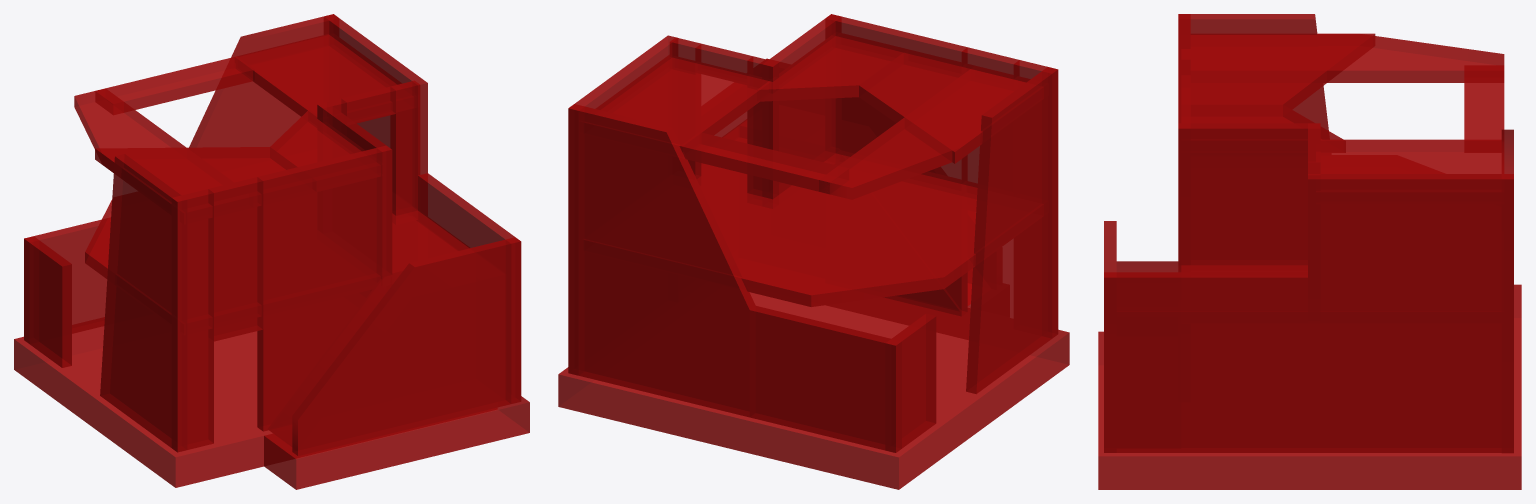
File: SM_Bld_Village_House_06_Destroyed_Collision.fbx
3 views of the same model, side by side, from view 1: azimuth 30°, elevation 25°; view 2: azimuth 150°, elevation 25°; view 3: azimuth 270°, elevation 25° (orthographic). The views are drawn at different scales.
Parts seen in each view (by area): view 1: SM_Bld_Village_House_06_Destroyed_Collision; view 2: SM_Bld_Village_House_06_Destroyed_Collision; view 3: SM_Bld_Village_House_06_Destroyed_Collision.
Part boxes in pixels (bbox=[...]): SM_Bld_Village_House_06_Destroyed_Collision: bbox=[14, 14, 529, 489]; SM_Bld_Village_House_06_Destroyed_Collision: bbox=[558, 14, 1069, 489]; SM_Bld_Village_House_06_Destroyed_Collision: bbox=[1098, 14, 1521, 489].
Size of the model in its own units: 807 by 673 by 840.
